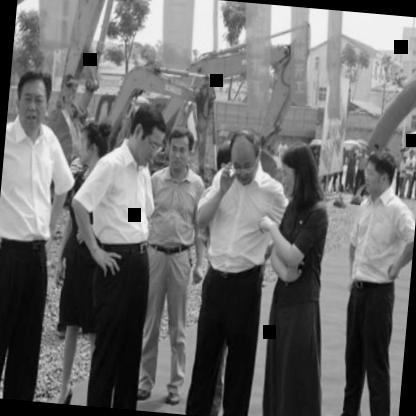head: (124, 102, 166, 168), (12, 66, 53, 133), (274, 144, 319, 204), (225, 129, 265, 184), (362, 143, 398, 200), (164, 119, 198, 176), (77, 118, 108, 172)
